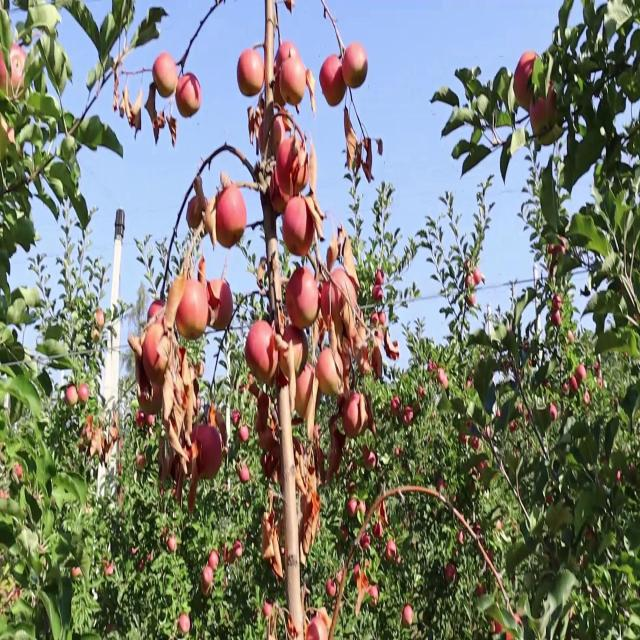apple: (216, 184, 248, 249), (288, 270, 320, 329), (248, 319, 277, 382), (280, 327, 309, 382), (280, 49, 307, 107), (208, 277, 235, 334), (284, 199, 311, 256), (0, 42, 28, 94), (144, 327, 170, 382), (236, 49, 264, 100), (320, 56, 347, 108), (512, 56, 537, 112), (184, 284, 208, 341), (296, 199, 319, 258), (200, 426, 224, 482), (320, 419, 344, 475), (344, 42, 369, 92), (292, 369, 314, 425), (316, 348, 340, 398), (256, 120, 286, 160), (176, 78, 203, 121), (268, 170, 291, 217), (332, 270, 358, 311), (156, 56, 180, 100), (304, 191, 320, 256), (256, 113, 280, 156), (268, 56, 287, 110), (140, 376, 164, 418), (544, 99, 564, 149), (168, 284, 187, 334), (272, 163, 291, 213), (344, 398, 366, 439), (276, 135, 298, 176), (144, 355, 170, 388), (328, 419, 347, 462), (208, 405, 228, 443), (320, 284, 339, 324), (548, 241, 568, 276), (292, 156, 310, 194), (268, 120, 286, 155), (336, 341, 352, 380), (356, 398, 372, 437), (352, 327, 368, 366), (316, 319, 336, 350), (148, 298, 166, 329), (532, 99, 548, 133), (368, 341, 384, 375), (260, 421, 277, 450), (188, 199, 203, 231), (548, 85, 560, 124), (128, 334, 145, 361), (204, 200, 216, 238), (364, 398, 376, 436), (540, 127, 560, 149), (572, 369, 588, 391), (552, 298, 564, 327), (368, 583, 380, 610), (204, 568, 215, 597), (372, 519, 386, 540), (388, 341, 400, 363), (444, 561, 456, 583), (404, 604, 415, 626), (356, 575, 370, 592), (364, 455, 377, 473), (380, 497, 388, 526), (404, 405, 414, 427), (208, 554, 220, 571), (360, 533, 371, 551), (576, 369, 588, 384), (392, 398, 401, 418), (440, 369, 448, 391), (436, 483, 447, 496), (572, 376, 580, 391), (496, 519, 504, 533), (584, 391, 592, 405), (552, 405, 559, 420), (480, 462, 488, 475), (548, 490, 554, 505)
